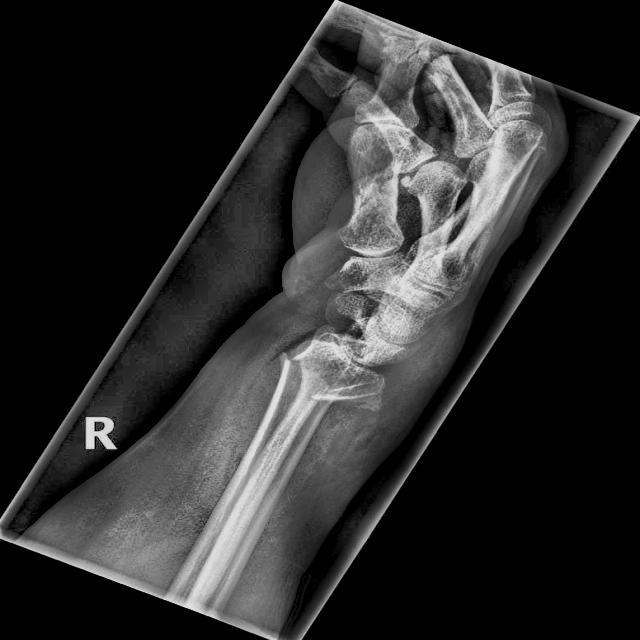fracture: (276, 334, 390, 412)
